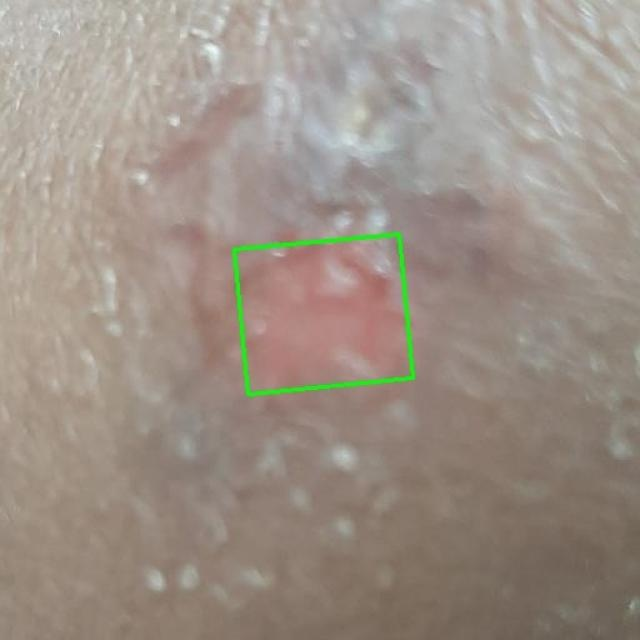Eczema: (234, 234, 413, 394)
